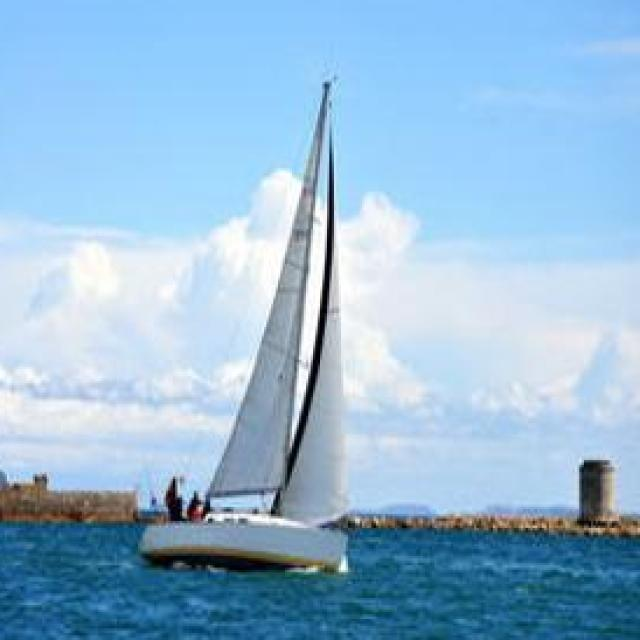sailboat: (132, 70, 360, 580)
